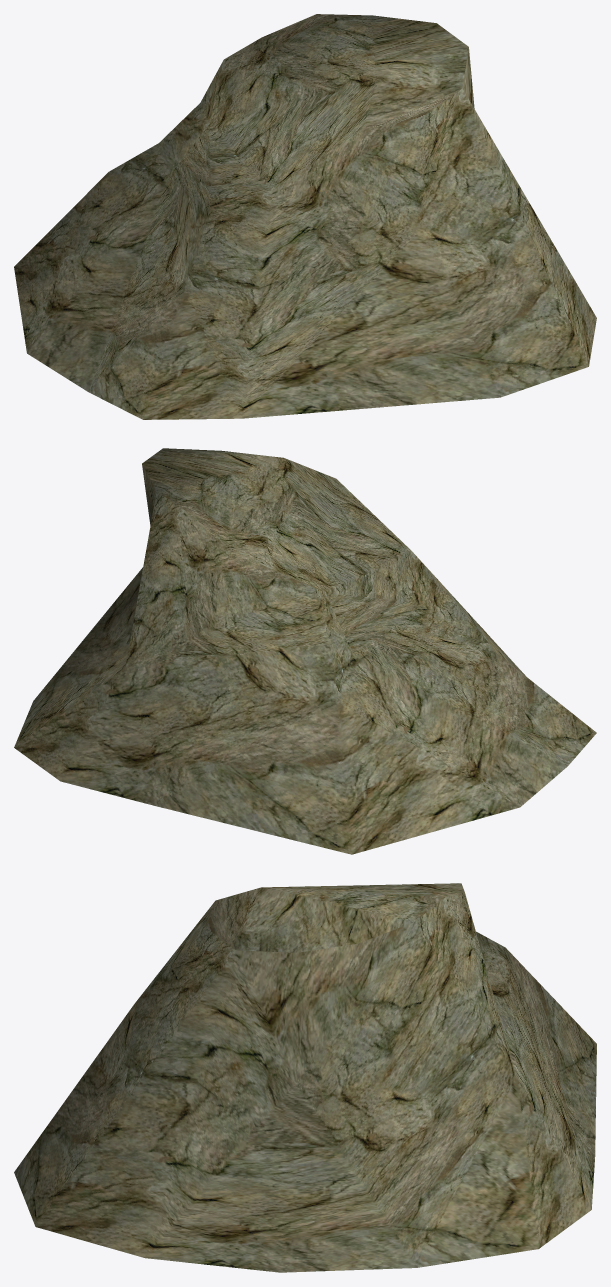
The model's file is rock_plain_white_a1_l2.fbx.
3 views of the same model, one above another, from view 1: azimuth 30°, elevation 25°; view 2: azimuth 150°, elevation 25°; view 3: azimuth 270°, elevation 25° (orthographic). The views are drawn at different scales.
Visible parts, largest first — view 1: mesh_node; view 2: mesh_node; view 3: mesh_node.
Part boxes in pixels (x1=…): mesh_node: x1=14, y1=14, x2=596, y2=419; mesh_node: x1=14, y1=448, x2=596, y2=854; mesh_node: x1=14, y1=883, x2=596, y2=1272.
Size of the model in its own units: 5.19 by 2.47 by 4.68.
